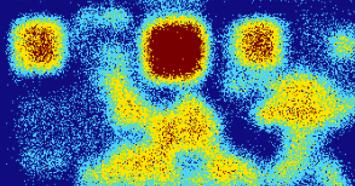Pad 1: (144, 21, 204, 80)
Pad 2: (18, 22, 62, 70), (235, 22, 280, 68)
